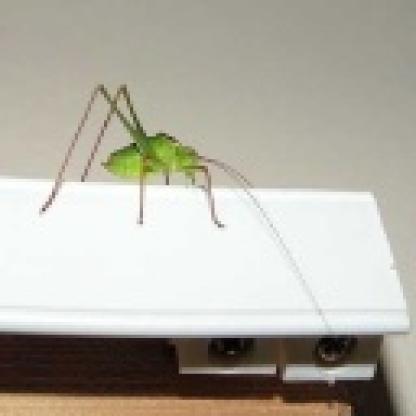grasshopper: (43, 77, 297, 238)
